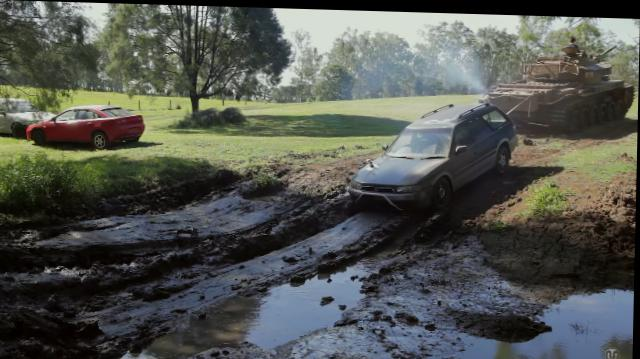tank: (495, 57, 625, 117)
